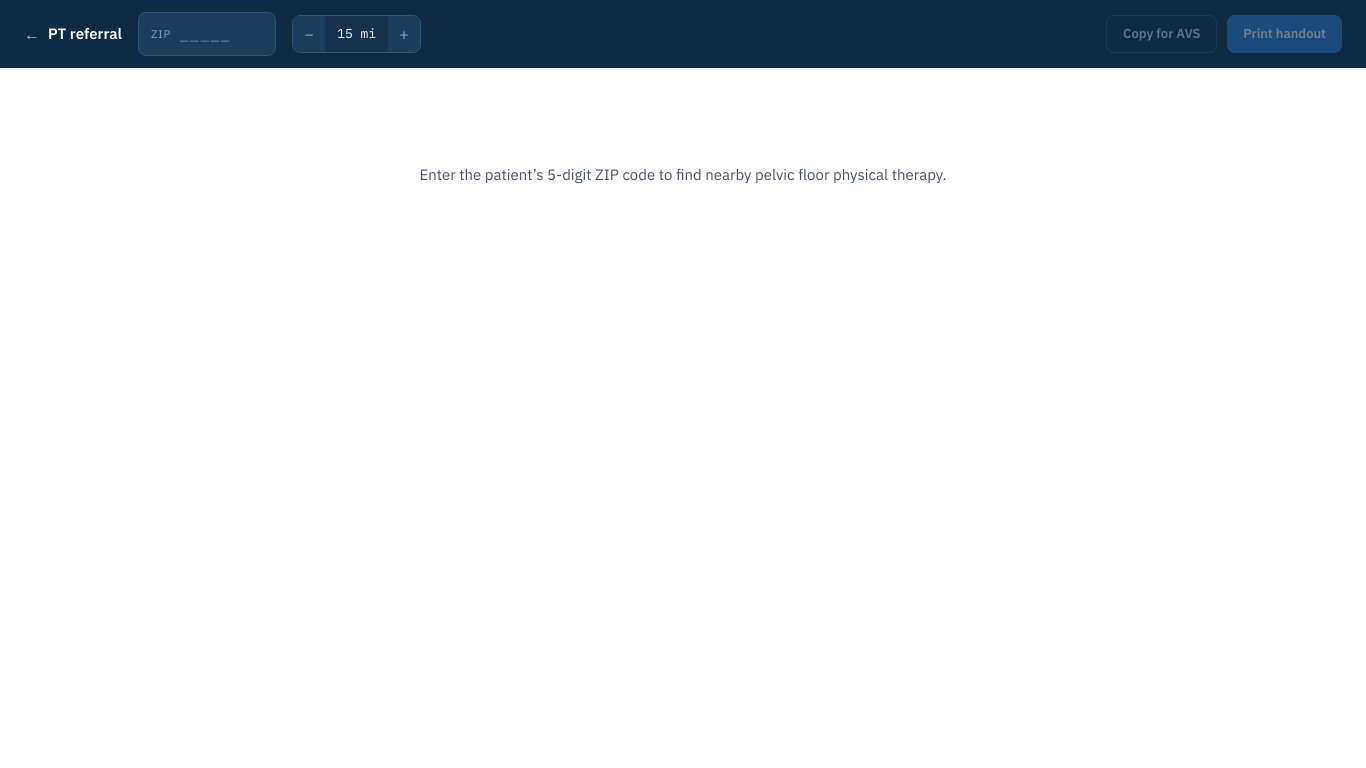
Test case: SearchTherapists result banners › shows skeleton rows while the clinician is still typing
Step 1. Type "54235" into the field named "Patient ZIP code" → (227, 34), box [179,13,275,54]
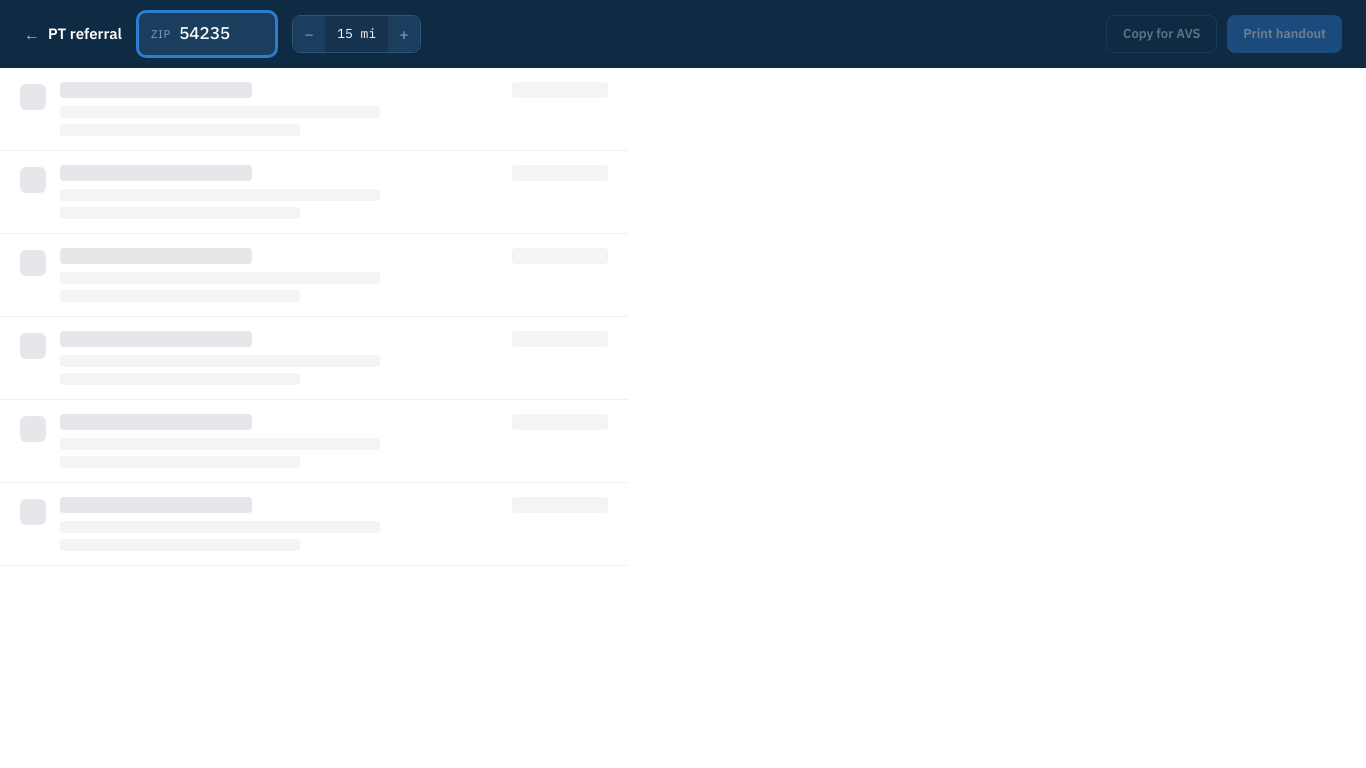
Now the message is shown, box [0,68,628,566]
